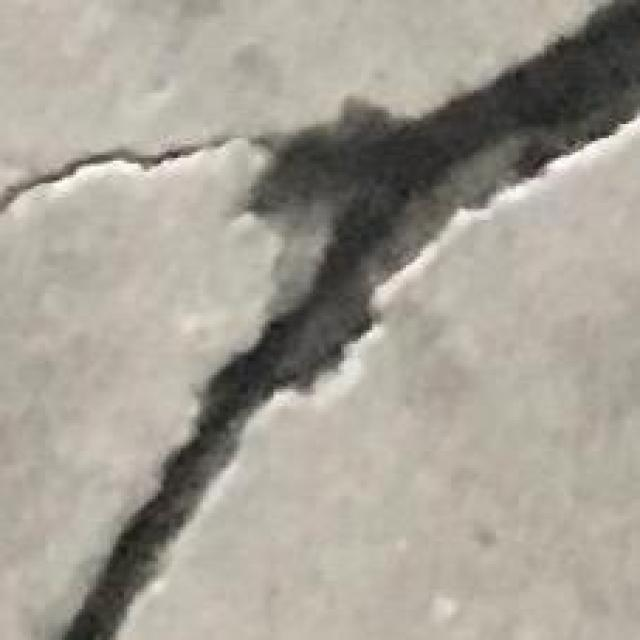branched cracks: (0, 136, 238, 212)
